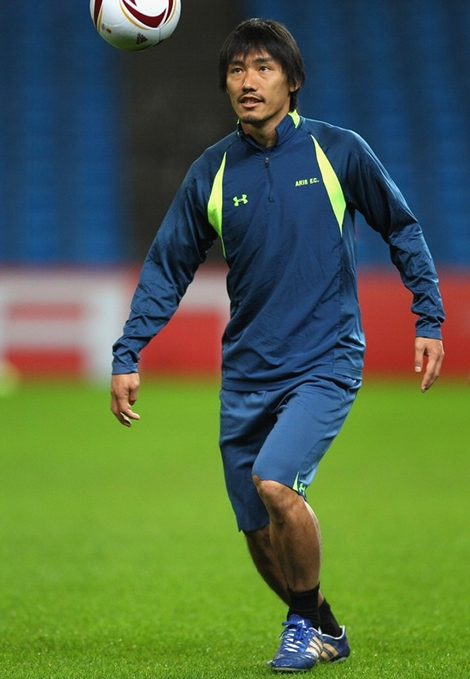football boots: (270, 619, 322, 676), (319, 627, 351, 663)
